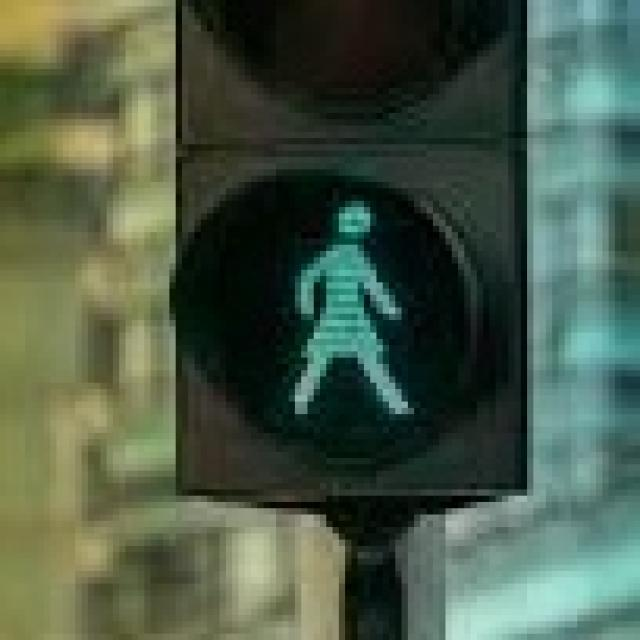geen-crossing: (264, 182, 426, 433)
